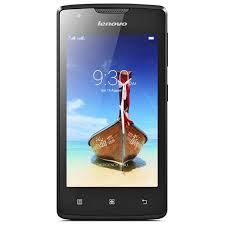lenovo: (55, 1, 170, 222)
